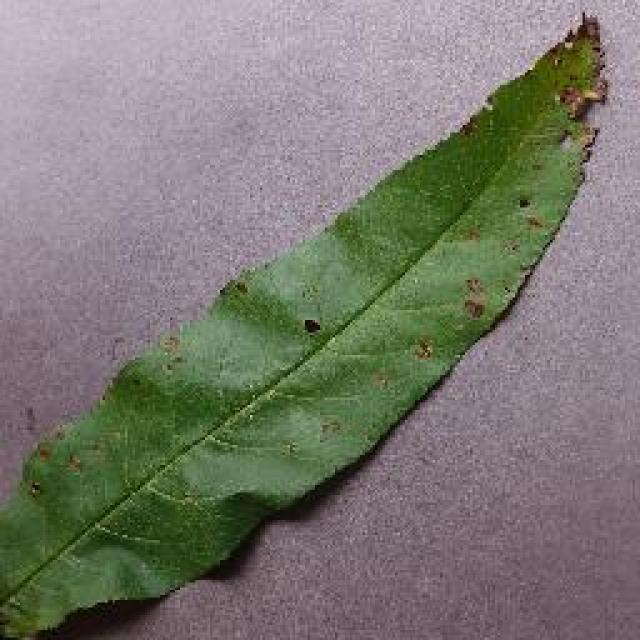Peach_Bacterial_Spot: (261, 120, 640, 361)
